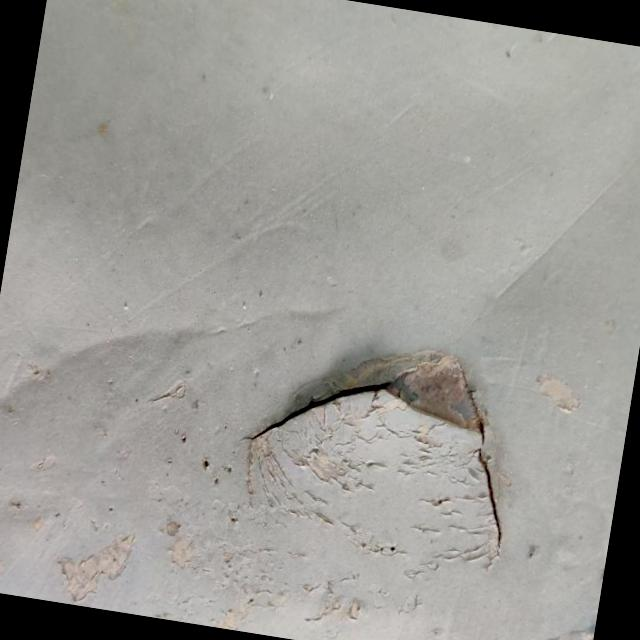crack: (302, 96, 594, 426)
